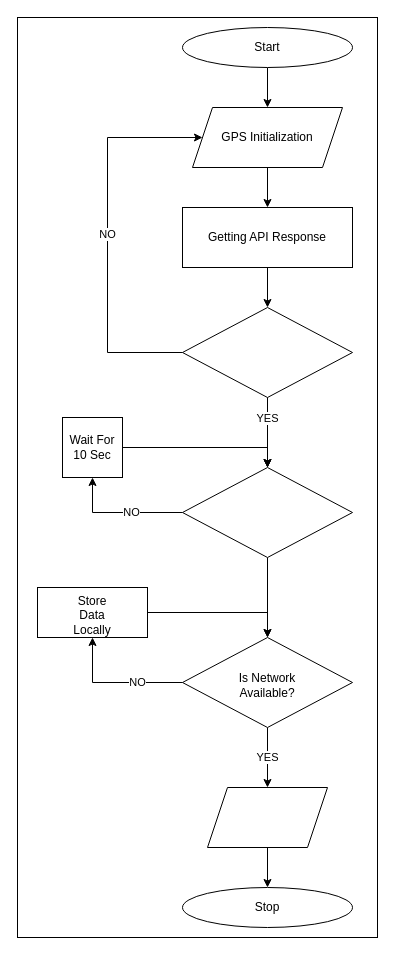
This 395x955 diagram has some shape labels left out. The shapes that lost their labels are listed below. From the top down, each one's box as (x1, y1, x2, y2) in pixels, then its label:
(182, 306, 352, 398): Getting Employee's Coordinates
(182, 466, 352, 558): Is the employee within the geofence?
(206, 786, 328, 848): Push Data to the Server
